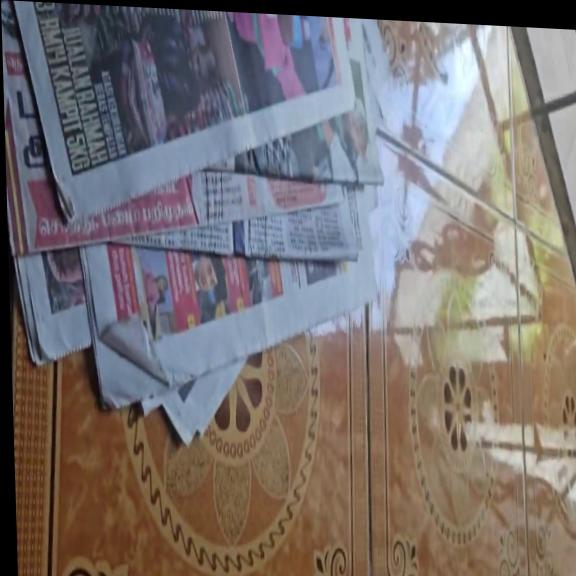Kertas: (11, 5, 370, 258), (86, 193, 379, 439)
